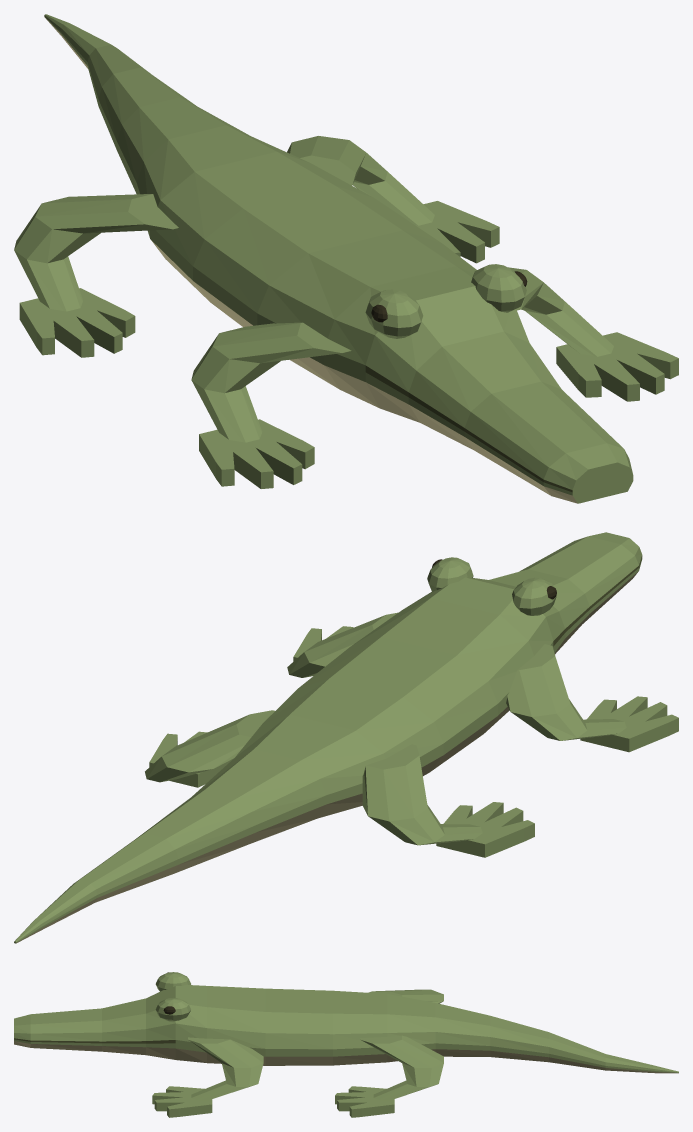
3 renders of one model, top to bottom at view 1: azimuth 30°, elevation 25°; view 2: azimuth 150°, elevation 25°; view 3: azimuth 270°, elevation 25°, orthographic. The views are drawn at different scales.
Parts seen in each view (by area): view 1: WholeContinuousLongSnoutTrunkAndTaperedTail, LeftHindWholeBentSplayedLimb, LeftForeWholeBentSplayedLimb, RightForeWholeFourDigitGroundFoot, LeftForeWholeFourDigitGroundFoot, LeftHindWholeFourDigitGroundFoot, RightHindWholeBentSplayedLimb, RightForeWholeBentSplayedLimb, RightHindWholeFourDigitGroundFoot, LeftLowDorsalEyeBoss, RightLowDorsalEyeBoss; view 2: WholeContinuousLongSnoutTrunkAndTaperedTail, LeftHindWholeBentSplayedLimb, LeftForeWholeBentSplayedLimb, RightHindWholeBentSplayedLimb, LeftHindWholeFourDigitGroundFoot, LeftForeWholeFourDigitGroundFoot, RightForeWholeBentSplayedLimb, LeftLowDorsalEyeBoss, RightLowDorsalEyeBoss, RightHindWholeFourDigitGroundFoot; view 3: WholeContinuousLongSnoutTrunkAndTaperedTail, RightHindWholeBentSplayedLimb, RightForeWholeBentSplayedLimb, RightForeWholeFourDigitGroundFoot, RightHindWholeFourDigitGroundFoot, RightLowDorsalEyeBoss, LeftHindWholeBentSplayedLimb, LeftLowDorsalEyeBoss.
Part boxes in pixels (left/top/right/bottom): WholeContinuousLongSnoutTrunkAndTaperedTail: left=44, top=14, right=633, bottom=503; LeftHindWholeBentSplayedLimb: left=14, top=194, right=178, bottom=311; LeftForeWholeBentSplayedLimb: left=191, top=322, right=351, bottom=442; RightForeWholeFourDigitGroundFoot: left=556, top=332, right=678, bottom=401; LeftForeWholeFourDigitGroundFoot: left=199, top=419, right=314, bottom=488; LeftHindWholeFourDigitGroundFoot: left=19, top=288, right=135, bottom=357; RightHindWholeBentSplayedLimb: left=287, top=136, right=434, bottom=225; RightForeWholeBentSplayedLimb: left=508, top=267, right=613, bottom=356; RightHindWholeFourDigitGroundFoot: left=415, top=201, right=499, bottom=263; LeftLowDorsalEyeBoss: left=365, top=289, right=423, bottom=338; RightLowDorsalEyeBoss: left=471, top=264, right=526, bottom=312; WholeContinuousLongSnoutTrunkAndTaperedTail: left=14, top=532, right=642, bottom=943; LeftHindWholeBentSplayedLimb: left=362, top=744, right=482, bottom=845; LeftForeWholeBentSplayedLimb: left=506, top=644, right=626, bottom=740; RightHindWholeBentSplayedLimb: left=145, top=710, right=274, bottom=782; LeftHindWholeFourDigitGroundFoot: left=436, top=802, right=534, bottom=857; LeftForeWholeFourDigitGroundFoot: left=580, top=696, right=678, bottom=752; RightForeWholeBentSplayedLimb: left=287, top=612, right=397, bottom=677; LeftLowDorsalEyeBoss: left=512, top=577, right=556, bottom=615; RightLowDorsalEyeBoss: left=427, top=557, right=473, bottom=591; RightHindWholeFourDigitGroundFoot: left=149, top=731, right=233, bottom=787; WholeContinuousLongSnoutTrunkAndTaperedTail: left=14, top=985, right=678, bottom=1073; RightHindWholeBentSplayedLimb: left=360, top=1035, right=443, bottom=1100; RightForeWholeBentSplayedLimb: left=188, top=1037, right=263, bottom=1100; RightForeWholeFourDigitGroundFoot: left=152, top=1086, right=212, bottom=1117; RightHindWholeFourDigitGroundFoot: left=335, top=1086, right=394, bottom=1117; RightLowDorsalEyeBoss: left=155, top=998, right=190, bottom=1021; LeftHindWholeBentSplayedLimb: left=369, top=989, right=443, bottom=1003; LeftLowDorsalEyeBoss: left=155, top=972, right=190, bottom=991.
Bounding box in the file's own units: 1.28 × 0.393 × 3.17.
